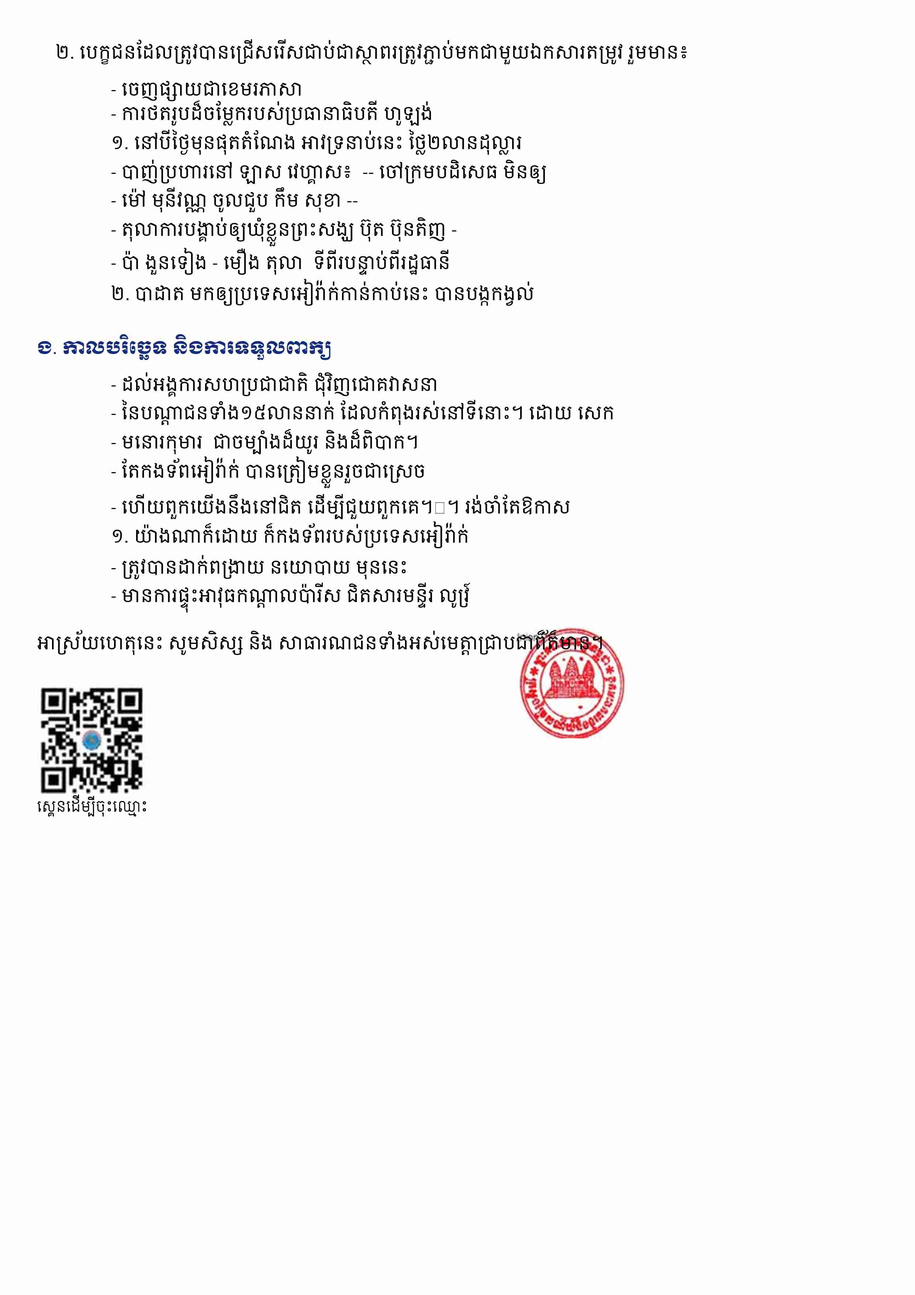decorative: (37, 683, 148, 794), (517, 628, 627, 738)
text: (55, 39, 689, 65), (37, 630, 604, 655), (111, 400, 615, 425), (111, 494, 571, 519), (111, 279, 535, 306), (111, 159, 547, 184), (111, 583, 470, 613), (111, 217, 457, 247), (111, 130, 522, 155), (111, 456, 426, 488), (111, 521, 469, 549), (111, 248, 450, 275), (111, 100, 433, 126), (111, 372, 438, 397), (111, 429, 419, 454), (37, 334, 331, 360), (111, 555, 408, 580), (111, 187, 358, 213), (111, 81, 303, 102), (37, 794, 148, 817)
